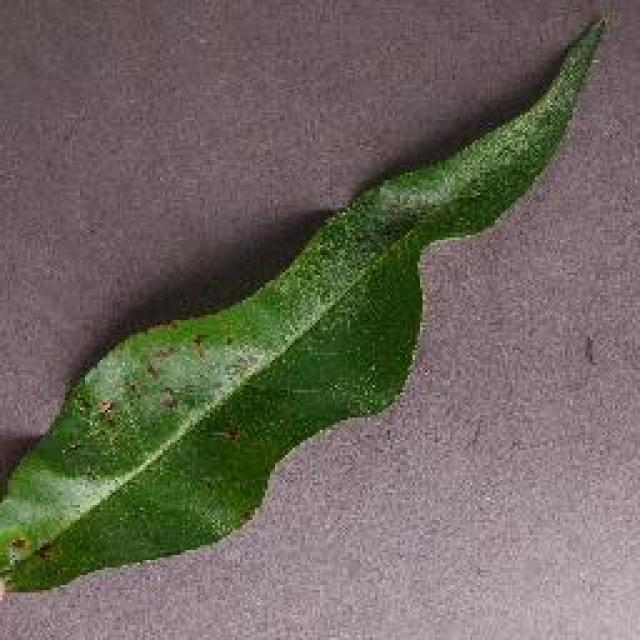Peach_Bacterial_Spot: (90, 294, 372, 518)
